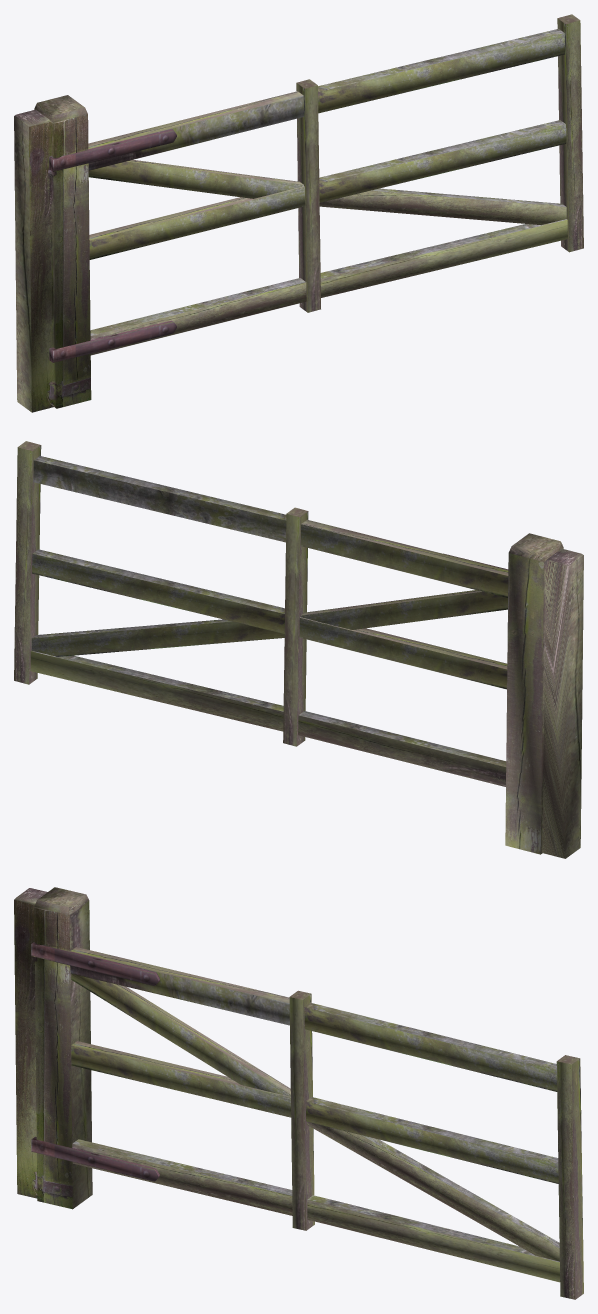
Rendered from Gate.fbx.
3 views of the same model, one above another, from view 1: azimuth 30°, elevation 25°; view 2: azimuth 150°, elevation 25°; view 3: azimuth 330°, elevation 25° (orthographic). The views are drawn at different scales.
Visible parts, largest first — view 1: Gate; view 2: Gate; view 3: Gate.
Boxes of the visible parts, <box> form: Gate: <box>14,14,583,412</box>; Gate: <box>14,441,583,858</box>; Gate: <box>14,887,583,1299</box>.
Bounding box in the file's own units: 23.11 × 11.75 × 1.48.
Materials: 1 (1 with a texture image).
